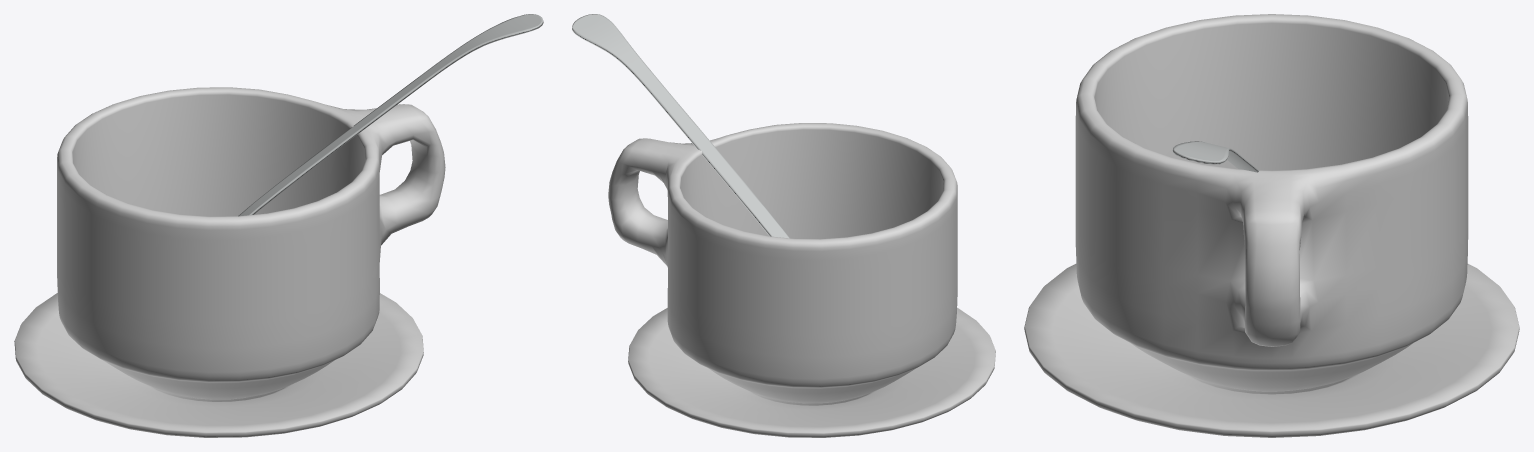
Rendered from obj_cup_of_coffee_f73a98.glb.
The picture shows the model from 3 angles, left to right: view 1: azimuth 30°, elevation 25°; view 2: azimuth 150°, elevation 25°; view 3: azimuth 270°, elevation 25°; orthographic projection. The views are drawn at different scales.
Visible parts, largest first — view 1: obj_cup_of_coffee_f73a98; view 2: obj_cup_of_coffee_f73a98; view 3: obj_cup_of_coffee_f73a98.
Part boxes in pixels (x1,y1,x2,y2): obj_cup_of_coffee_f73a98: (14, 14, 543, 437); obj_cup_of_coffee_f73a98: (572, 14, 995, 437); obj_cup_of_coffee_f73a98: (1024, 14, 1519, 437).
Bounding box in the file's own units: 0.1549 × 0.1 × 0.1172.
3 materials, 3 textured.
